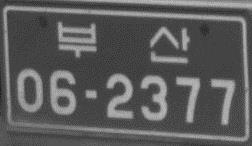-: (82, 87, 99, 101)
0: (16, 67, 44, 113)
2: (105, 71, 134, 120)
3: (140, 73, 169, 122)
6: (49, 68, 78, 116)
7: (208, 75, 237, 126), (174, 73, 202, 125)
부산_D: (55, 18, 191, 66)
